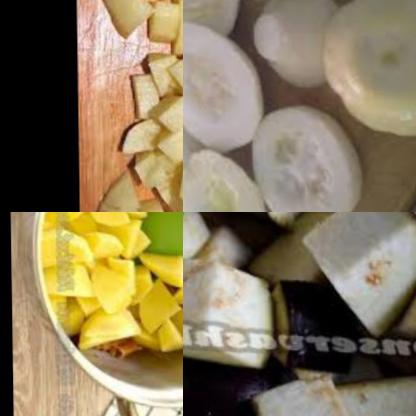eggplant: (183, 212, 416, 416)
potato: (35, 212, 183, 356), (83, 0, 183, 212)
squash-patisson: (247, 94, 363, 212), (316, 0, 416, 132), (183, 17, 270, 161), (241, 0, 338, 96), (183, 141, 272, 212), (183, 0, 234, 55), (183, 97, 202, 184)
